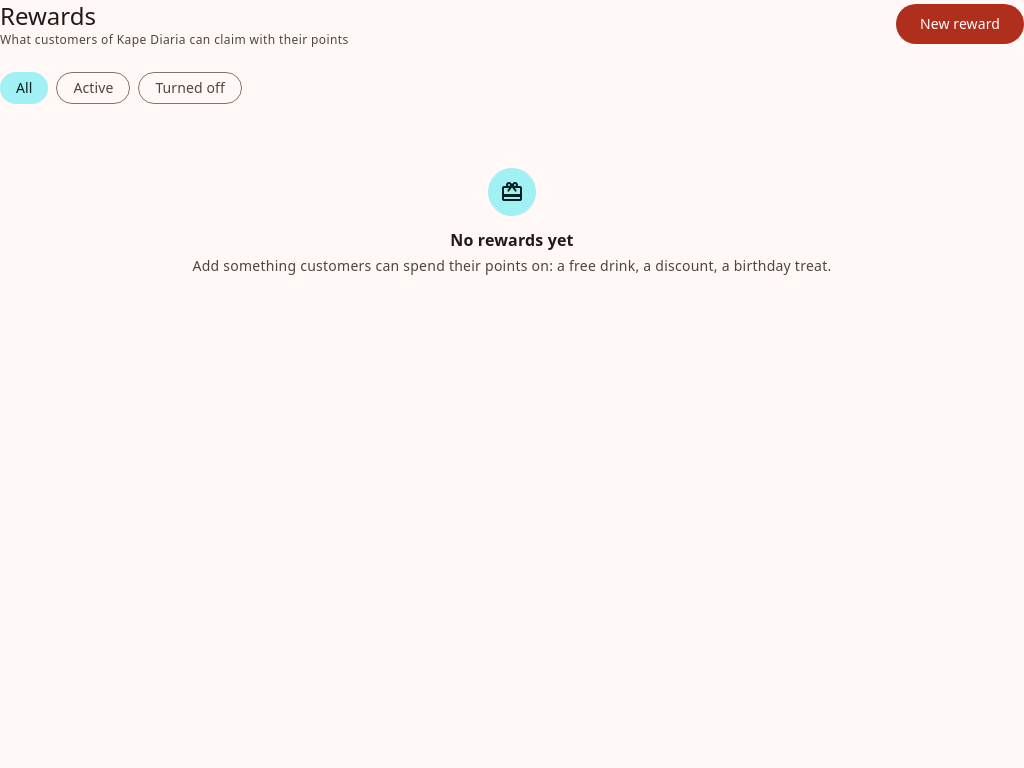
Scenario: RewardsManager: the create flow › refuses a per-customer limit of zero before it ever reaches the server
Step 1. Click the button "New reward" → (960, 24), box [896,4,1023,44]
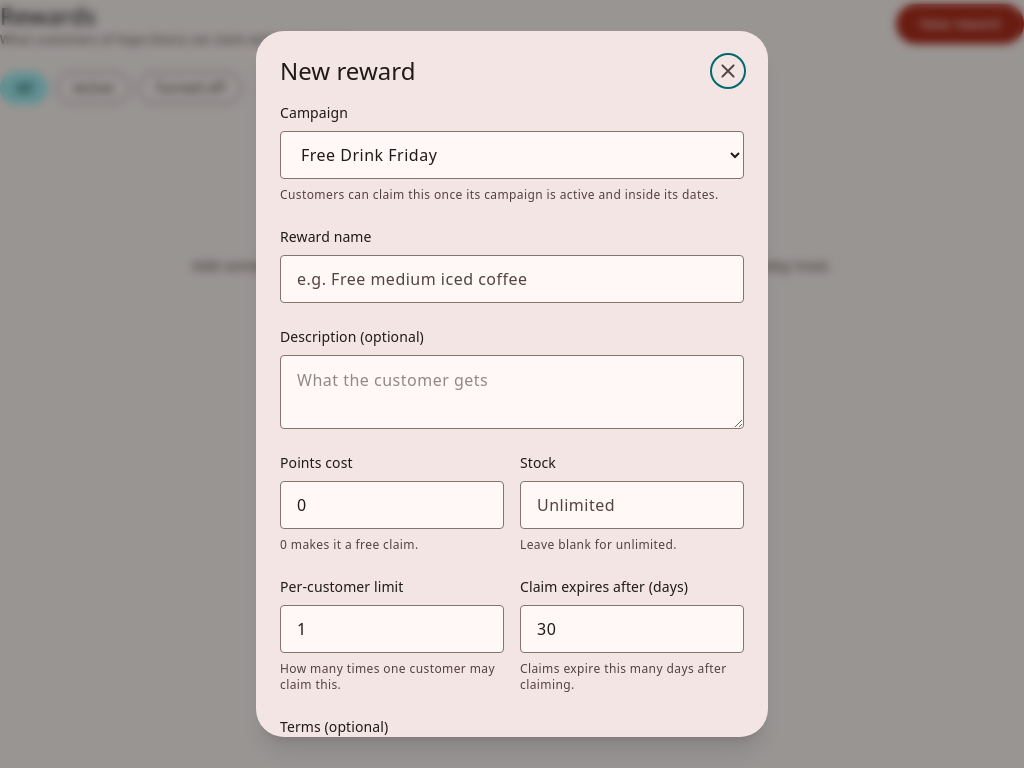
Step 2. Type "Free pastry" into the field labelled "Reward name" → (512, 279), box [280,255,744,303]
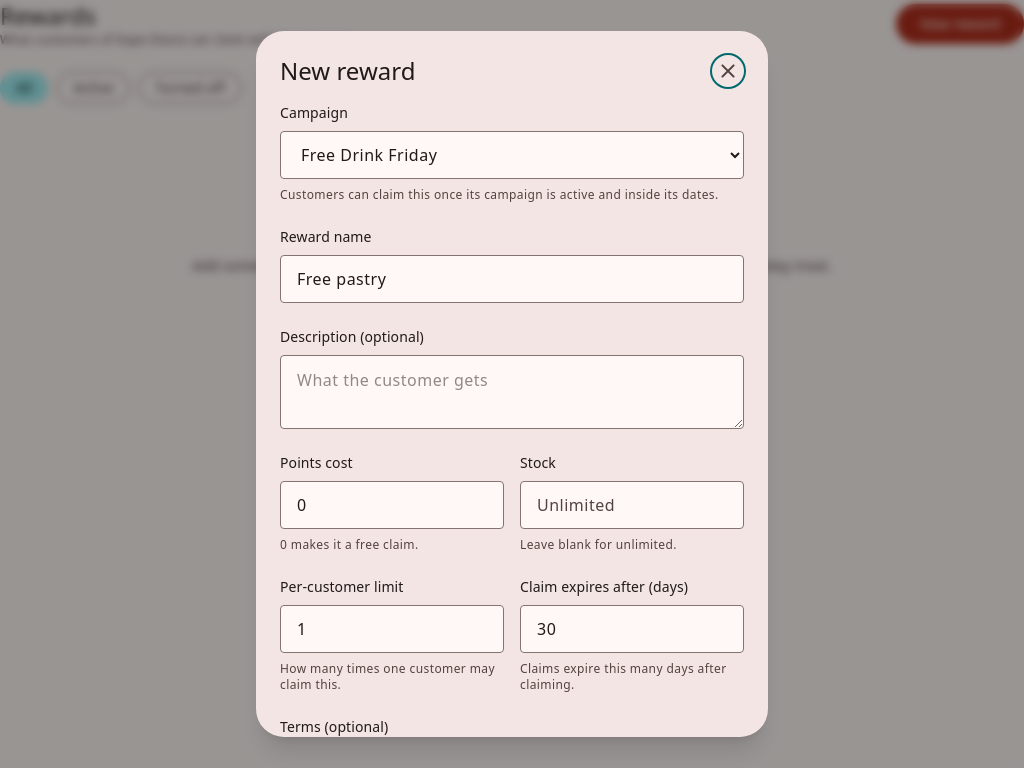
Step 3. Type "250" into the field labelled "Points cost" → (392, 505), box [280,481,504,529]
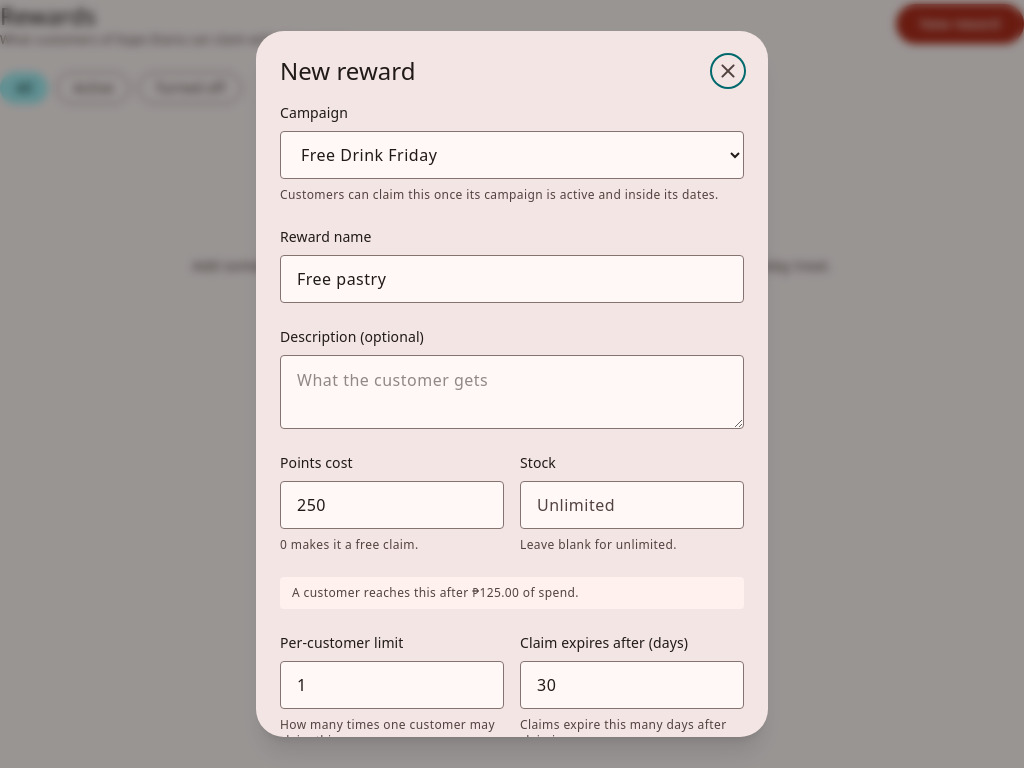
Step 4. Type "20" into the field labelled "Stock" → (632, 505), box [520,481,744,529]
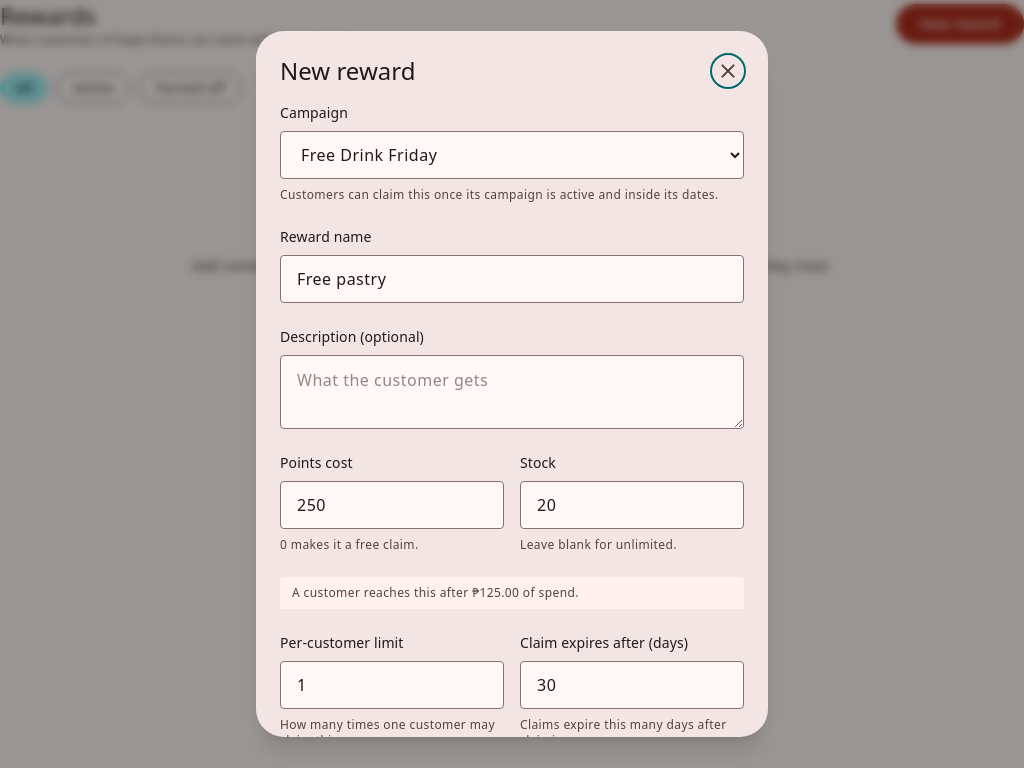
Step 5. Type "0" into the field labelled "Per-customer limit" → (392, 685), box [280,661,504,709]
(page scrolled)
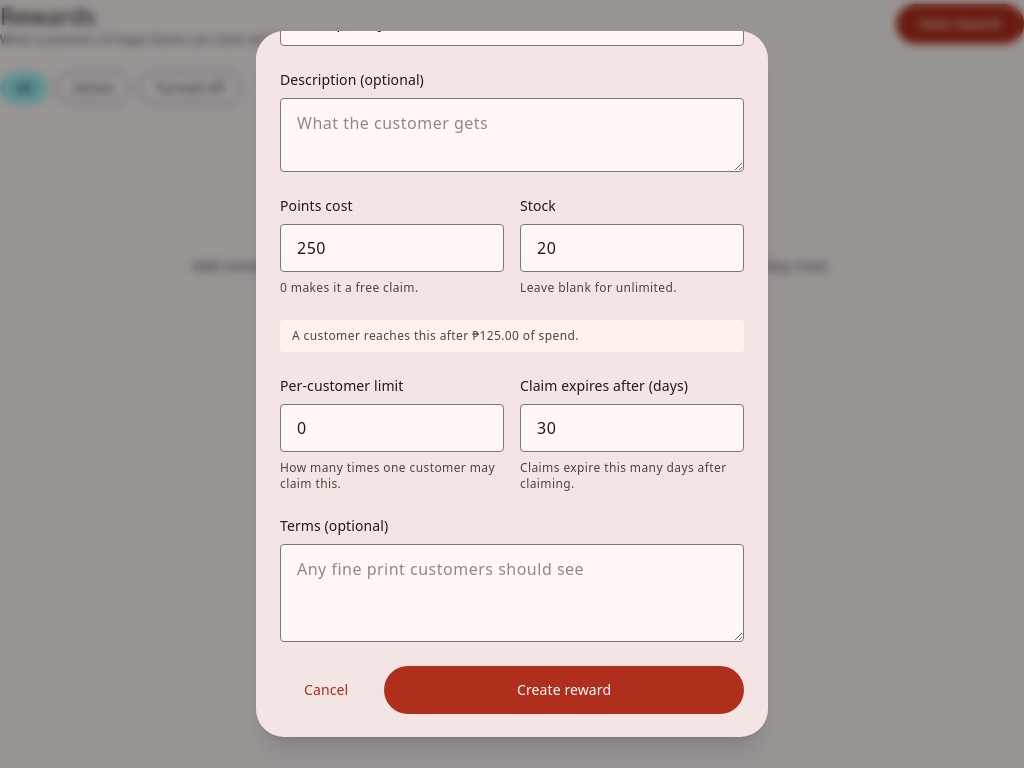
Step 6. Click the button "Create reward" → (564, 690), box [384,666,744,714]
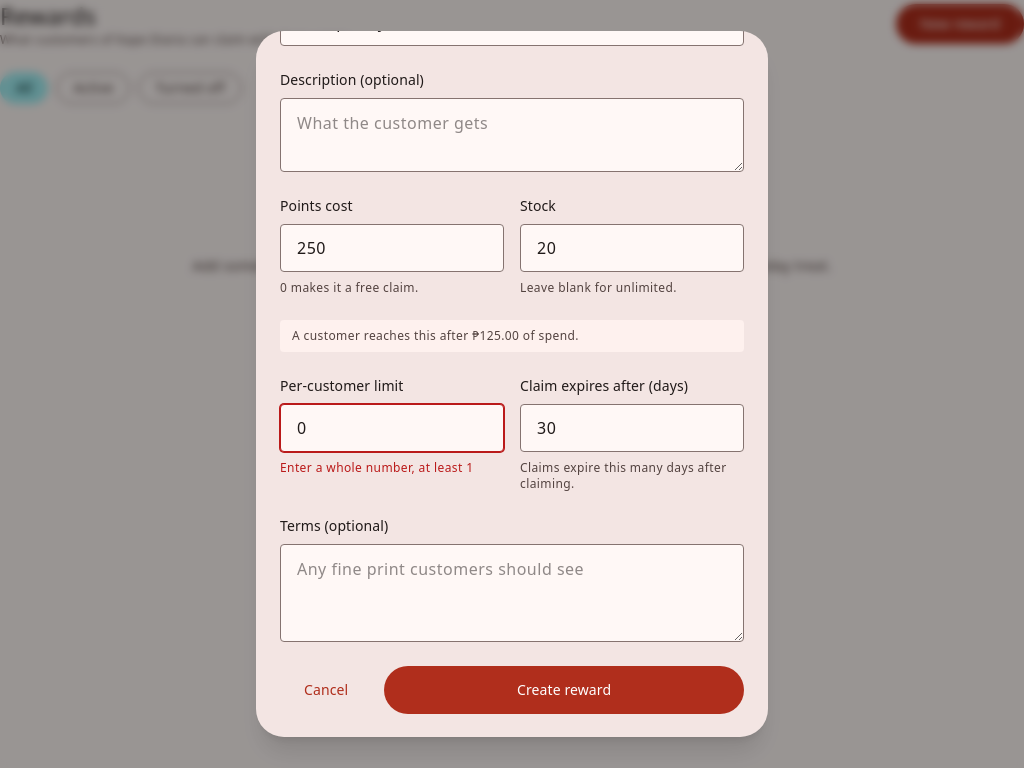
Now the text "Enter a whole number, at least 1" is shown, box [280,460,504,476]
